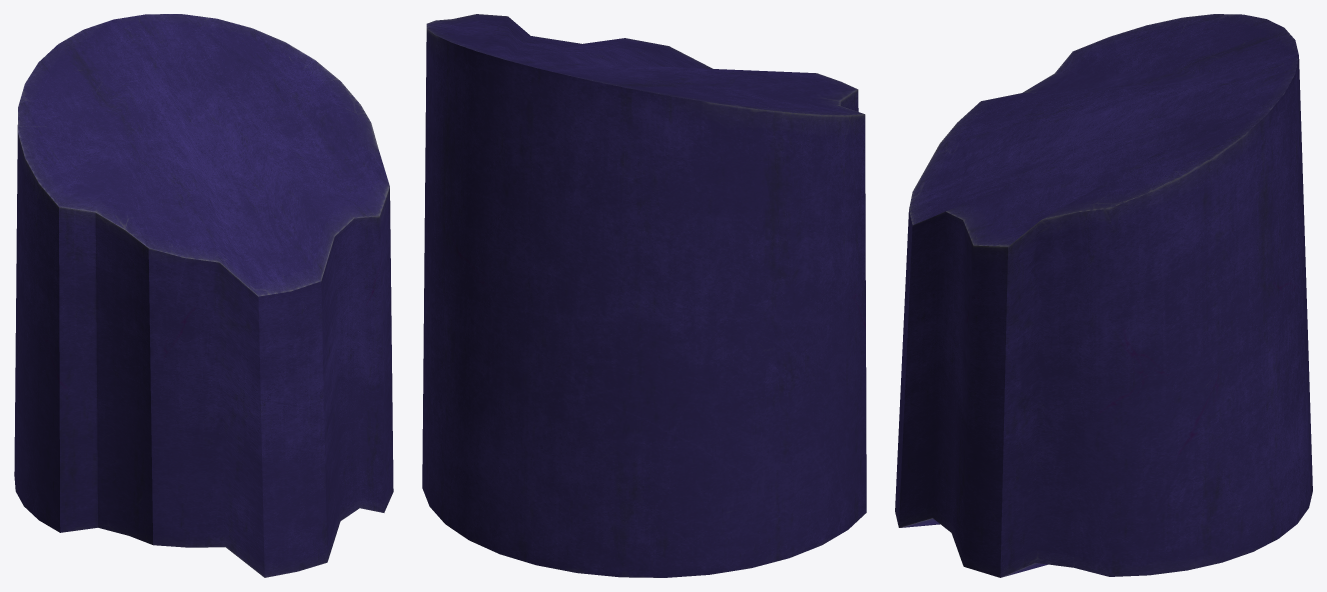
File: Roca_Cilindrica_Texturizada.fbx
3 renders of one model, left to right at view 1: azimuth 30°, elevation 25°; view 2: azimuth 150°, elevation 25°; view 3: azimuth 270°, elevation 25°, orthographic. The views are drawn at different scales.
Parts seen in each view (by area): view 1: Roca cilindrica; view 2: Roca cilindrica; view 3: Roca cilindrica.
Boxes of the visible parts, x1,y1,x2,y2 form: Roca cilindrica: (14,14,393,577); Roca cilindrica: (422,14,866,577); Roca cilindrica: (895,14,1312,577).
Bounding box in the file's own units: 2480 × 3068 × 2549.
1 material, 1 textured.
